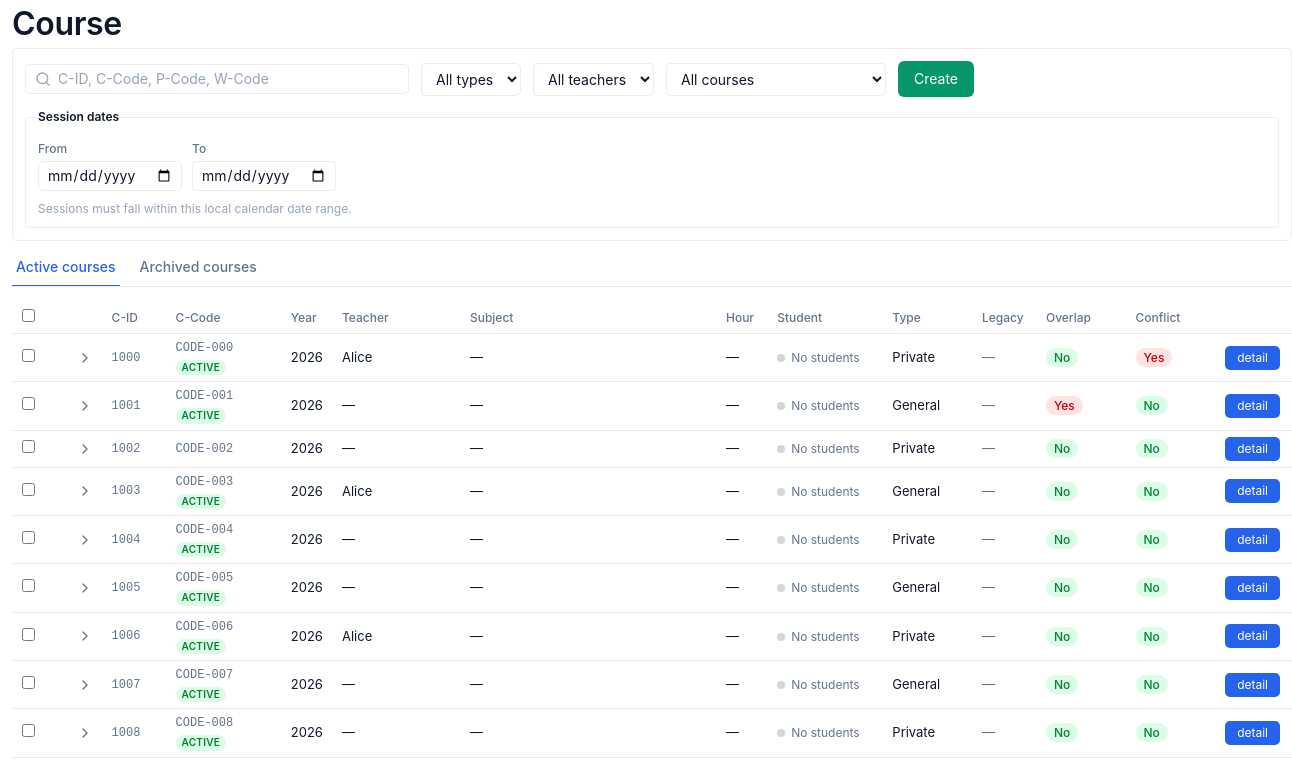
Test: Courses filters and pagination › loads the archived bucket lazily when the tab is opened
Expected: the text "CODE-000" is shown, [176,340,233,356]
Click the button "Archived courses": (198, 272) [136,257,261,286]
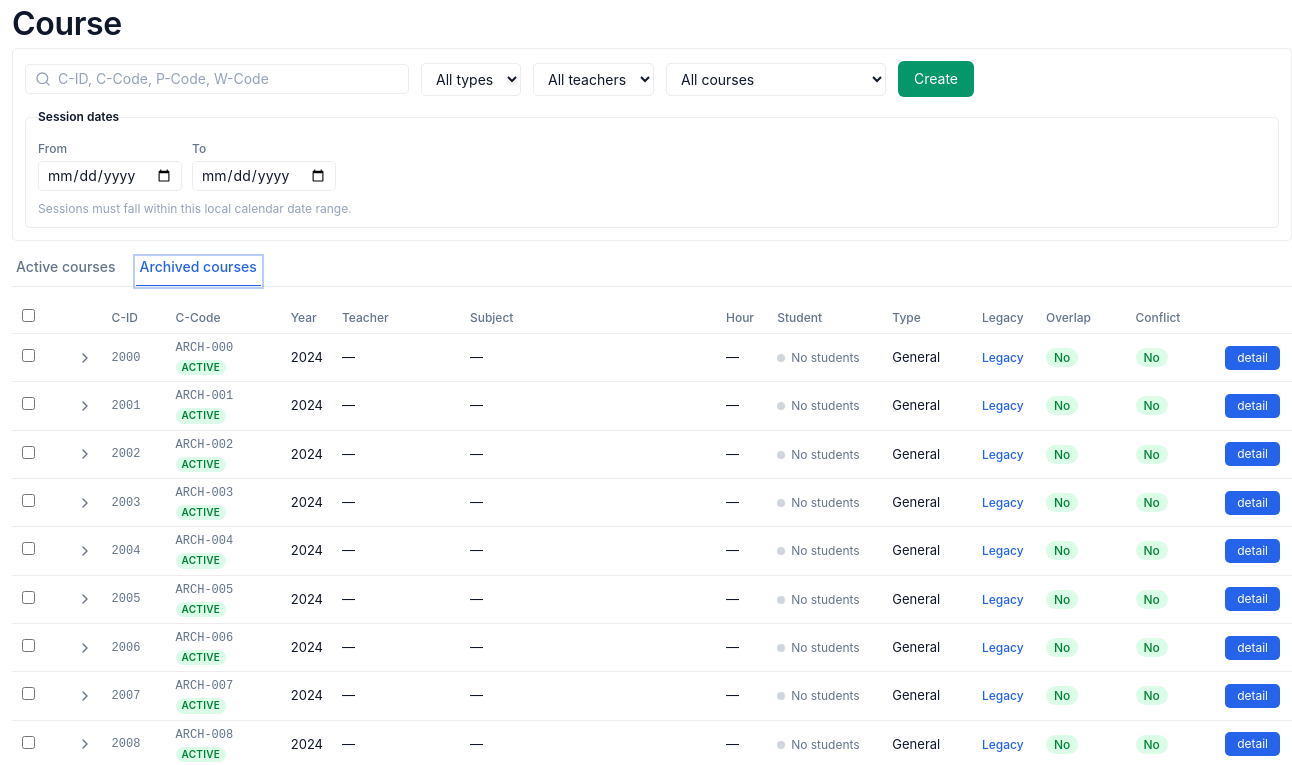
Expected: the text "ARCH-000" is shown, [176,340,233,356]
Expected: the text "CODE-000" is gone
